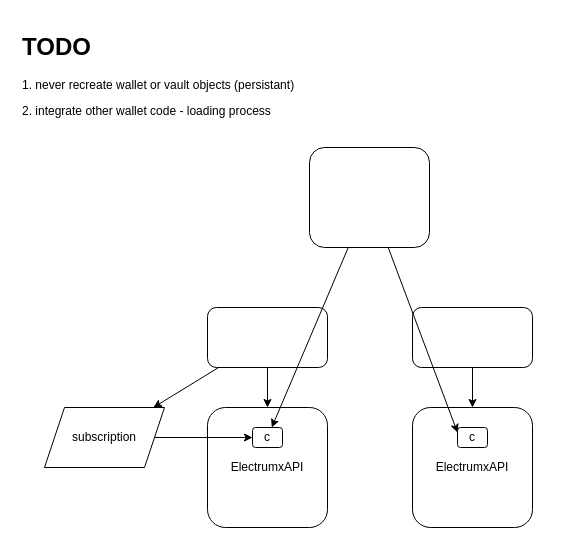
This 571x545 diagram has some shape labels left out. The shapes that lost their labels are listed below. From the top down, each one's centre as x and y in pixels, then its label:
the point at 369,197: Connection do connect do handshake
the point at 267,337: Wallet
the point at 472,337: Vault
